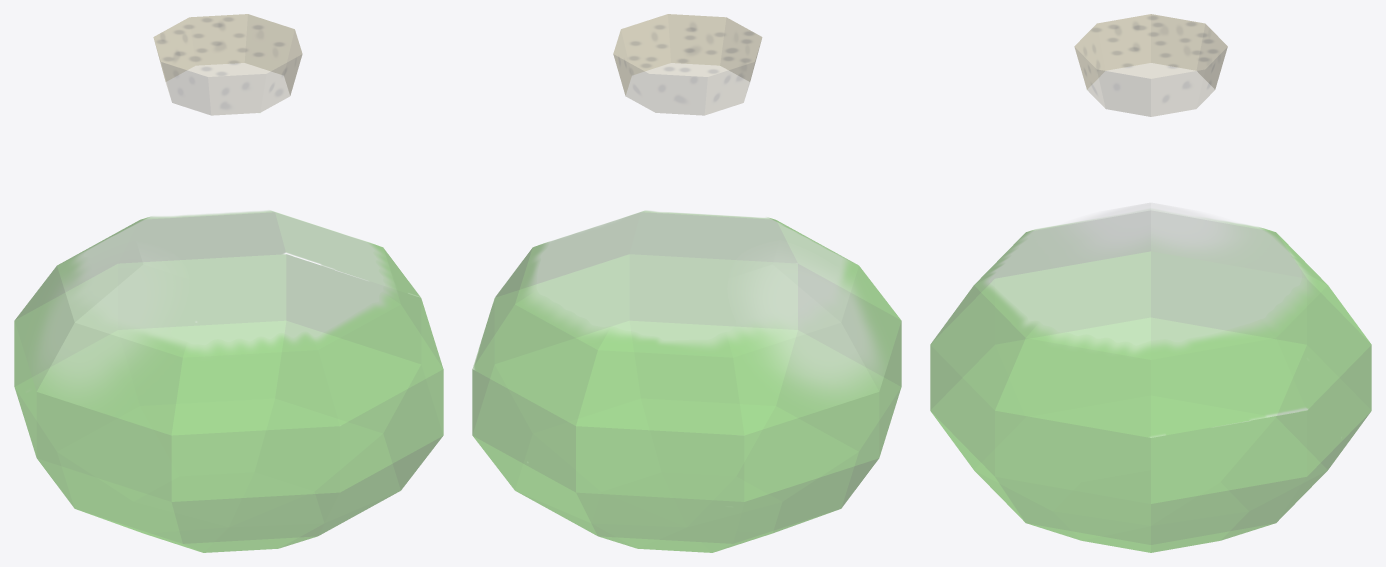
File: health-potion.fbx
3 renders of one model, left to right at view 1: azimuth 30°, elevation 25°; view 2: azimuth 150°, elevation 25°; view 3: azimuth 270°, elevation 25°, orthographic.
Visible parts, largest first — view 1: Sphere; view 2: Sphere; view 3: Sphere.
Boxes of the visible parts, x1,y1,x2,y2 form: Sphere: [14, 14, 443, 552]; Sphere: [472, 14, 901, 552]; Sphere: [930, 14, 1371, 552].
Size of the model in its own units: 1.95 by 2.34 by 1.95.
